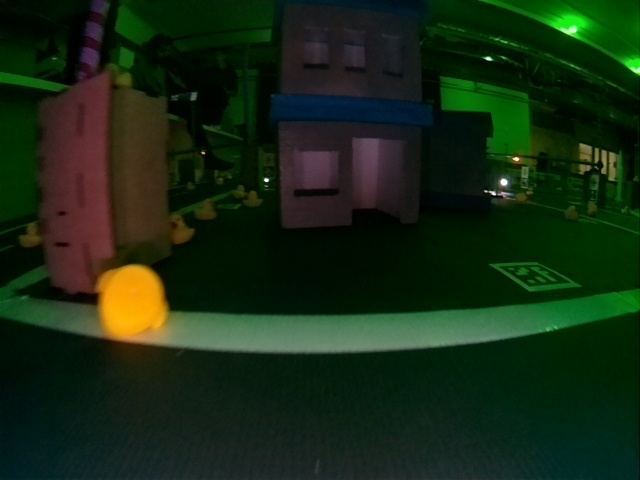Duckie: (98, 270, 166, 334), (170, 214, 195, 244), (19, 222, 37, 247), (195, 199, 214, 219), (247, 191, 257, 204), (564, 206, 574, 218), (587, 203, 595, 215), (517, 192, 525, 202), (236, 185, 244, 193)
QR code: (496, 261, 571, 289)
